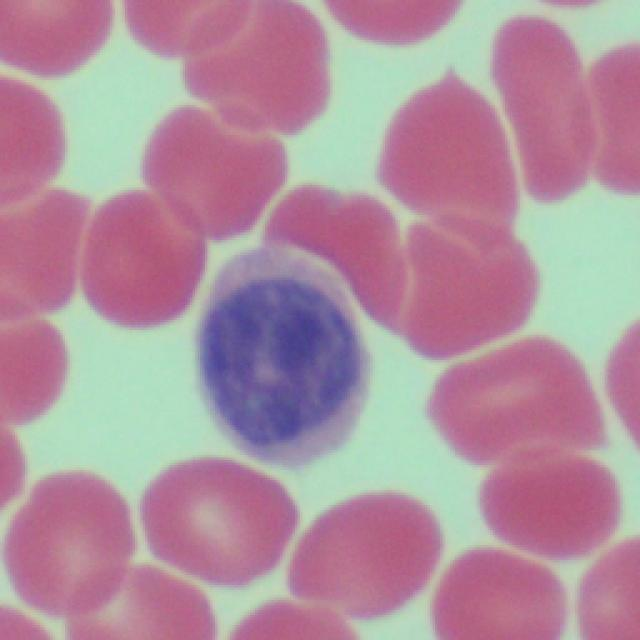RBC: (349, 195, 542, 363), (472, 360, 616, 567), (0, 460, 134, 640), (266, 166, 429, 311), (138, 452, 298, 594), (374, 71, 510, 238), (299, 471, 443, 628), (68, 188, 204, 343), (493, 5, 598, 204), (180, 0, 328, 140), (142, 96, 277, 239), (431, 542, 567, 638), (0, 80, 81, 216), (0, 181, 84, 312), (0, 308, 70, 442), (2, 0, 120, 77), (316, 0, 467, 50), (569, 534, 640, 637), (604, 300, 640, 452), (220, 606, 364, 640), (0, 405, 40, 512)
WBC: (198, 233, 378, 473)
